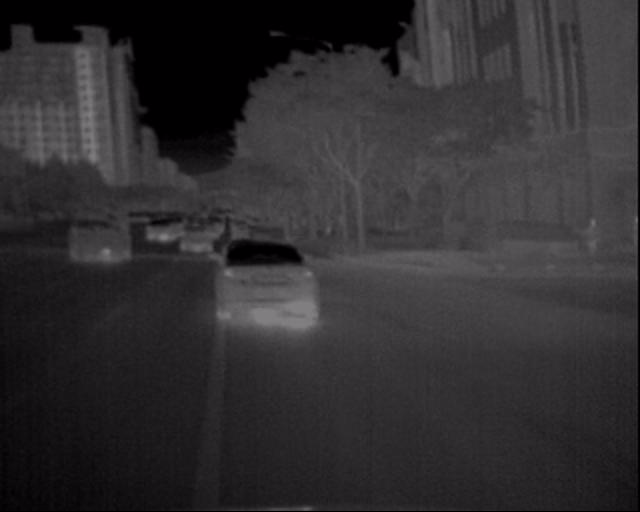person: (586, 209, 614, 264)
